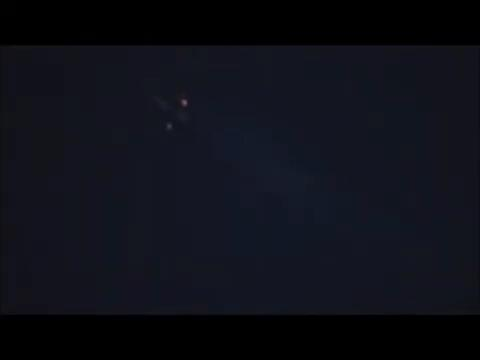Plane: (128, 81, 220, 140)
